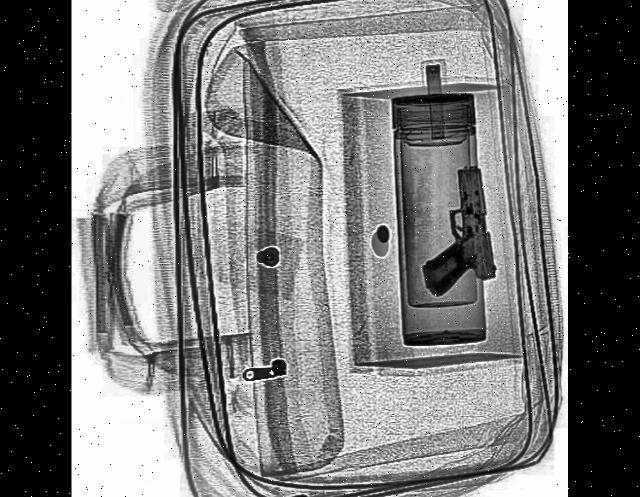Gun: (413, 161, 498, 298)
